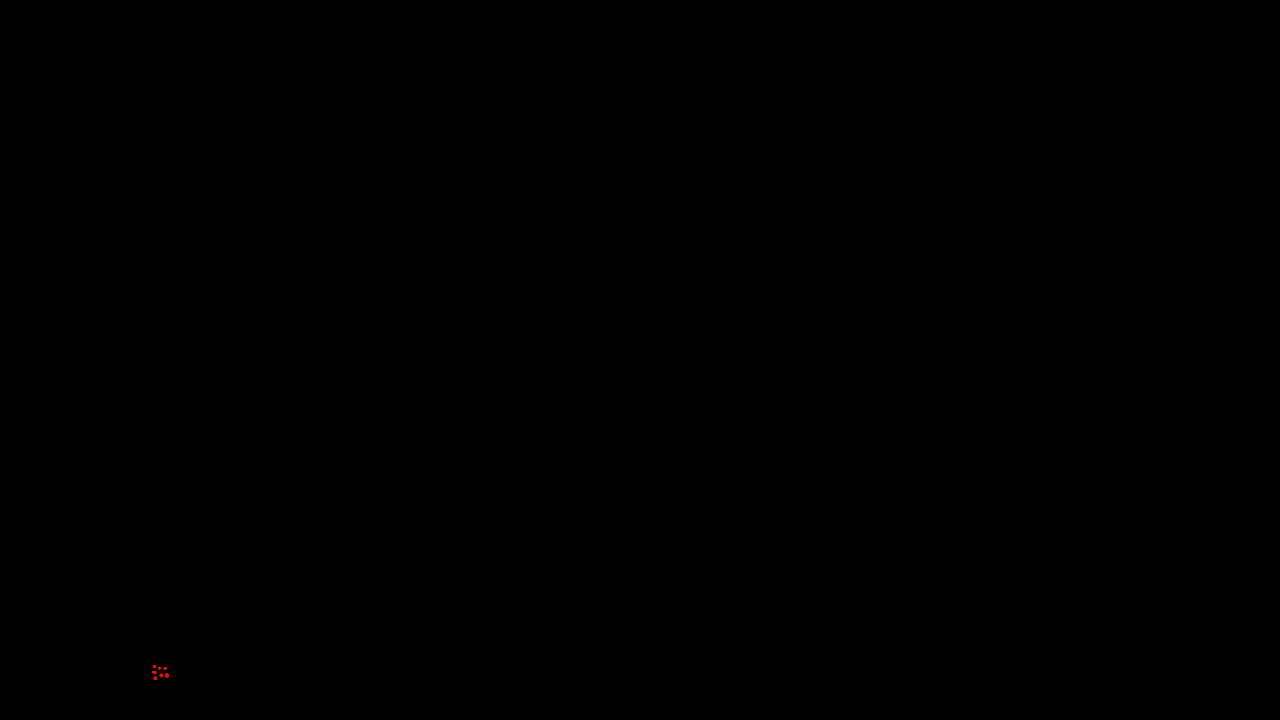Target: (165, 673, 169, 678), (159, 673, 163, 677), (153, 676, 157, 680), (152, 671, 157, 674), (163, 667, 167, 670), (153, 665, 156, 668), (158, 667, 161, 670)
